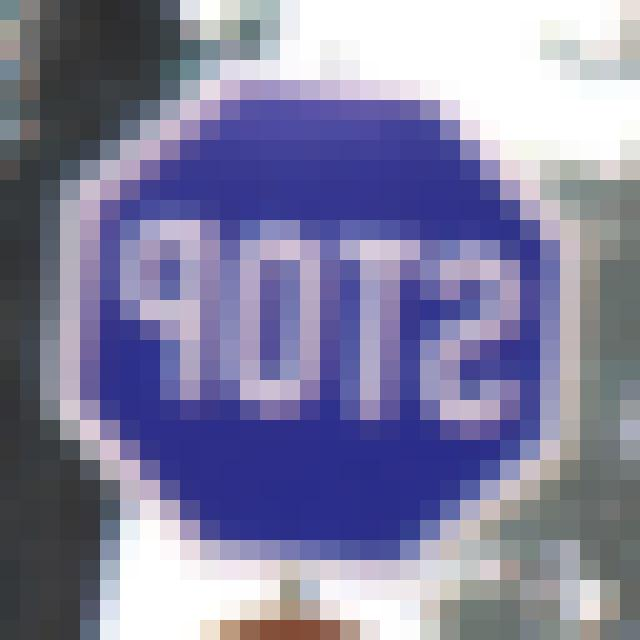STOP: (84, 104, 561, 558)
